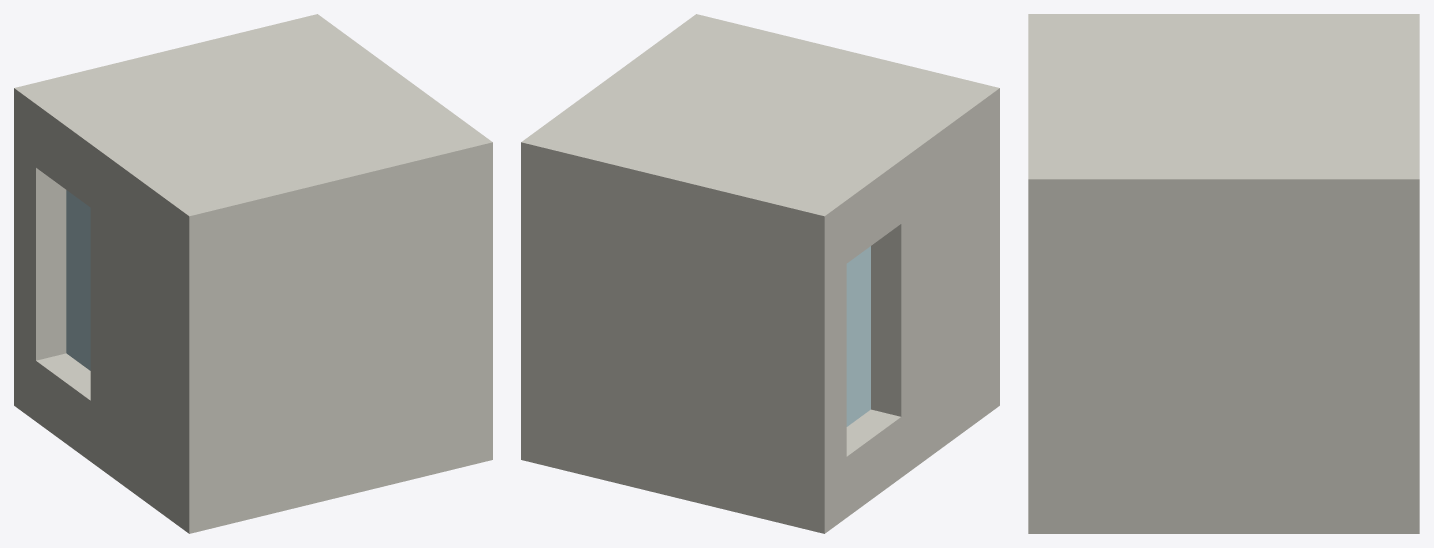
File: Building Story 34.fbx
The picture shows the model from 3 angles, left to right: view 1: azimuth 30°, elevation 25°; view 2: azimuth 150°, elevation 25°; view 3: azimuth 270°, elevation 25°; orthographic projection. The views are drawn at different scales.
Parts seen in each view (by area): view 1: Building Story 34; view 2: Building Story 34; view 3: Building Story 34.
Boxes of the visible parts, left/top/right/bottom form: Building Story 34: left=14, top=14, right=492, bottom=533; Building Story 34: left=521, top=14, right=999, bottom=533; Building Story 34: left=1028, top=14, right=1419, bottom=533.
Size of the model in its own units: 1 by 1 by 1.
